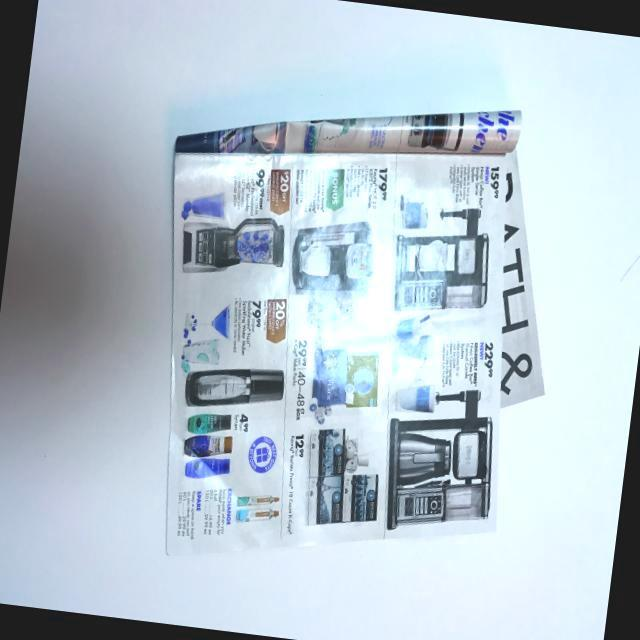paper: (122, 65, 581, 606)
